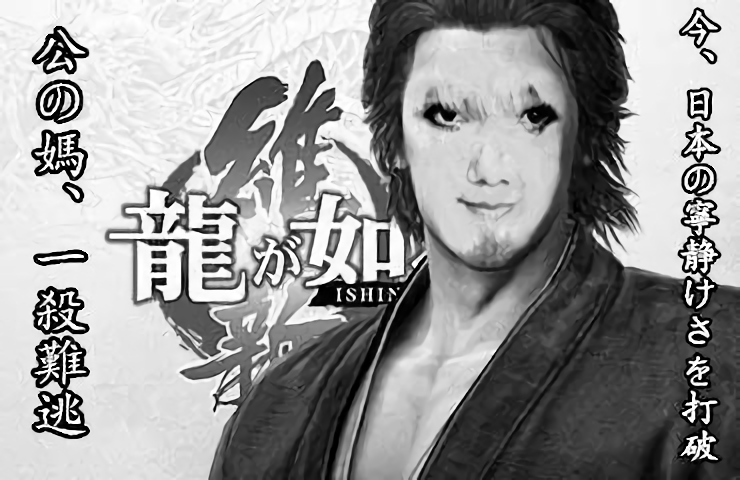dragon: (417, 72, 562, 225)
